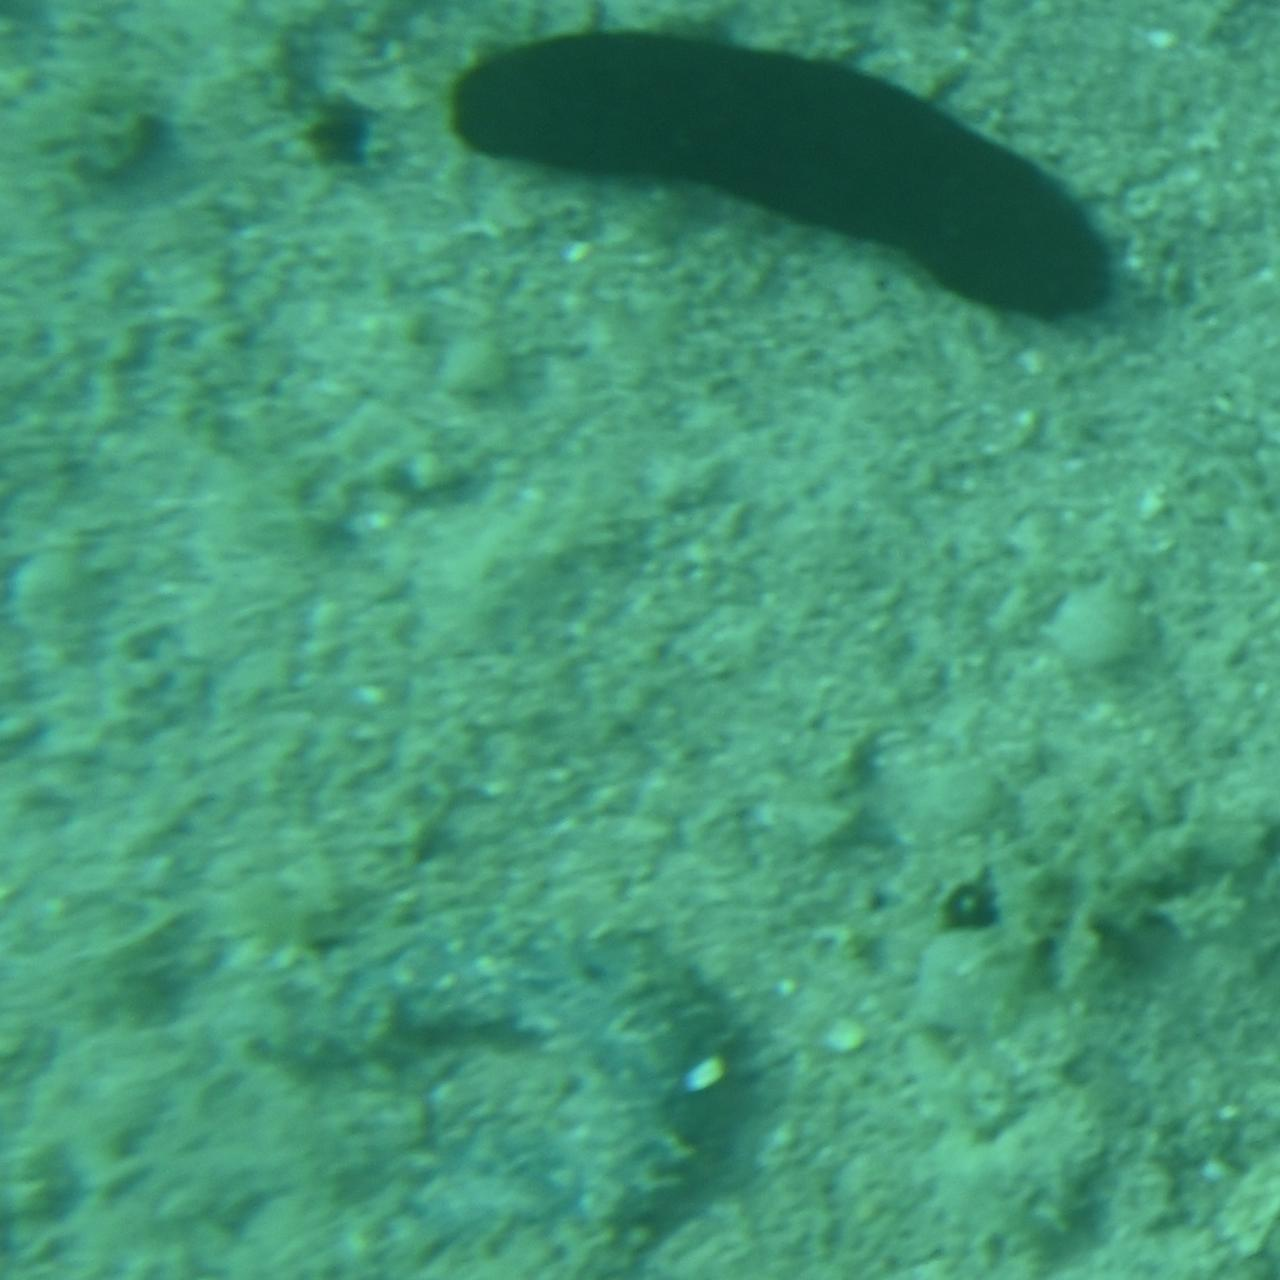Holothuria tubulosa: (440, 30, 1124, 335), (256, 918, 742, 1279)
